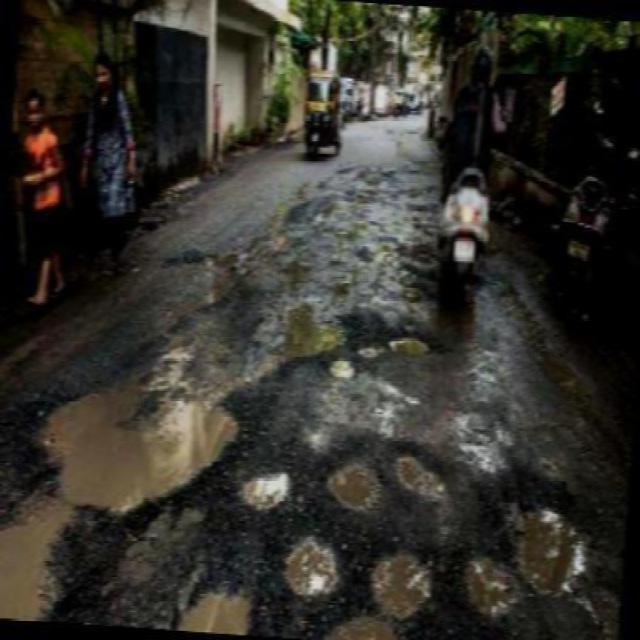Pothole: (18, 371, 238, 507), (506, 288, 626, 468), (312, 549, 449, 640), (216, 299, 354, 385), (506, 474, 596, 595), (0, 501, 85, 624), (346, 227, 429, 304), (167, 579, 261, 640), (276, 533, 350, 606), (462, 545, 524, 623), (390, 444, 455, 507), (230, 468, 306, 516), (326, 463, 383, 513), (391, 331, 441, 360), (323, 354, 359, 381), (354, 340, 379, 358)
